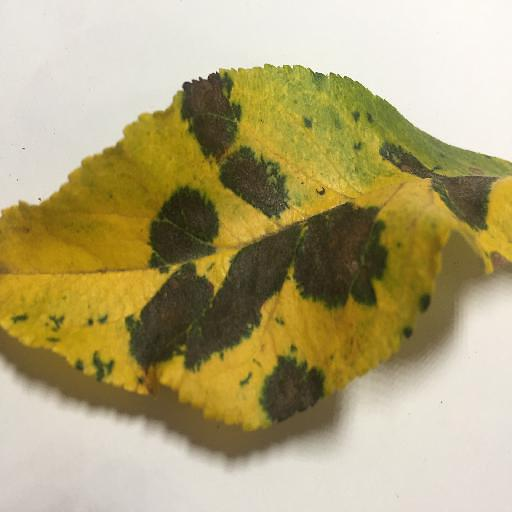Brown_Spot: (201, 238, 281, 347), (386, 149, 492, 219), (289, 221, 380, 299), (133, 267, 185, 365), (180, 80, 241, 155), (148, 191, 215, 257), (253, 360, 321, 416), (231, 160, 291, 211)
